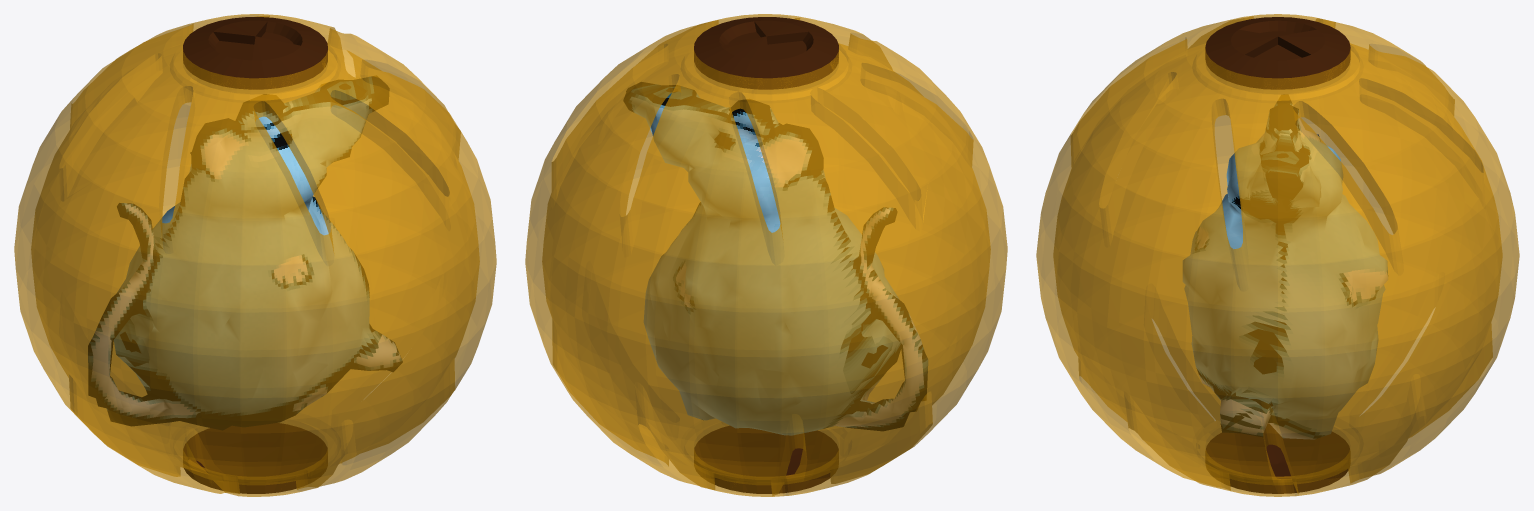
Rendered from legend_of_shadowtails_ratrick_mesh.glb.
3 views of the same model, side by side, from view 1: azimuth 30°, elevation 25°; view 2: azimuth 150°, elevation 25°; view 3: azimuth 270°, elevation 25° (orthographic).
Parts seen in each view (by area): view 1: Sphere, model_0, Sphere_door; view 2: Sphere, model_0, Sphere_door; view 3: Sphere, model_0, Sphere_door.
Part boxes in pixels (x1,y1,x2,y2): Sphere: (14,14,496,496); model_0: (88,76,402,430); Sphere_door: (183,17,327,493); Sphere: (525,14,1007,496); model_0: (623,82,927,435); Sphere_door: (694,17,838,493); Sphere: (1036,14,1519,496); model_0: (1183,94,1387,439); Sphere_door: (1205,17,1350,493).
Bounding box in the file's own units: 13.87 × 13.87 × 13.87.
3 materials, 1 textured.
